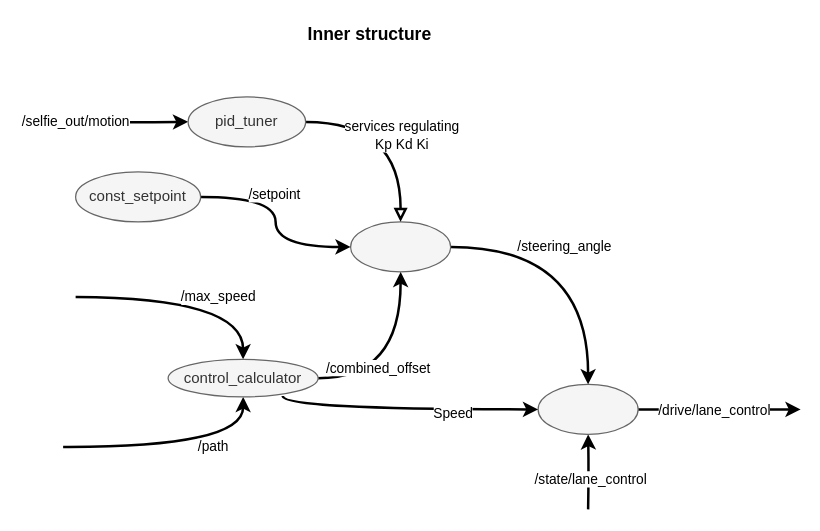
The diagram is 820 pixels wide and 531 high, and some of its shapes have lost their labels. The shapes that lost their labels are listed below. From the top down, each one's centre as x and y in pixels, then its label:
the point at 400,246: pid_controller
the point at 587,408: cmd_creator
